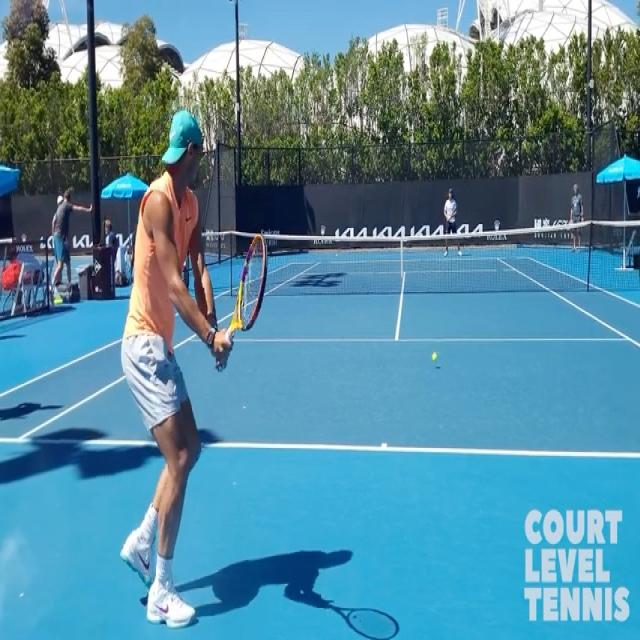backhand-ready: (106, 120, 275, 623)
